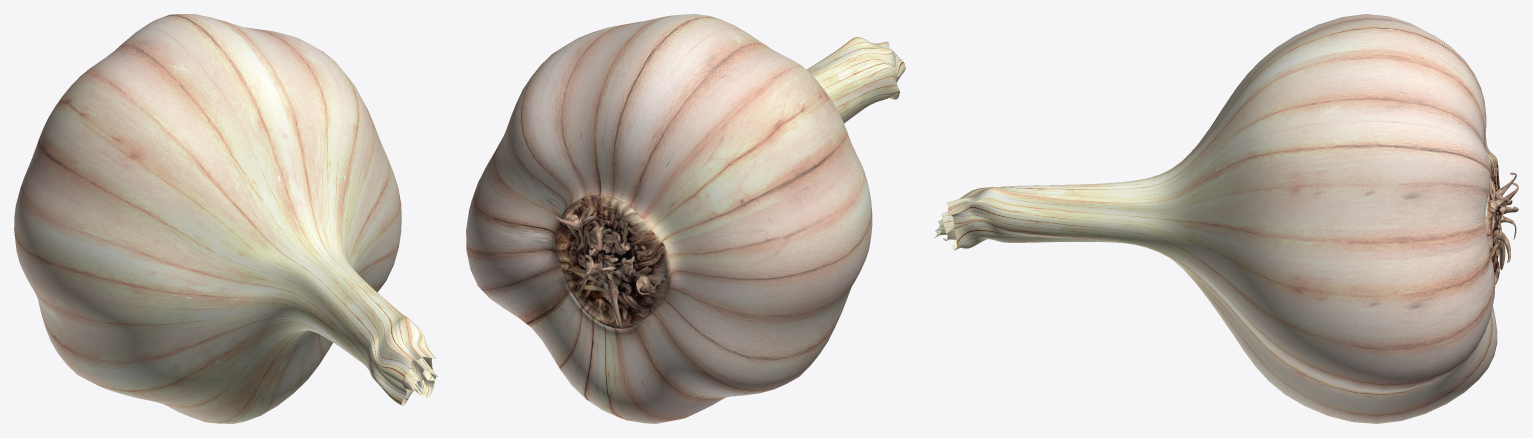
File: Garlic.obj
3 views of the same model, side by side, from view 1: azimuth 30°, elevation 25°; view 2: azimuth 150°, elevation 25°; view 3: azimuth 270°, elevation 25° (orthographic).
Parts seen in each view (by area): view 1: Garlic_04; view 2: Garlic_04; view 3: Garlic_04.
Boxes of the visible parts, x1,y1,x2,y2 form: Garlic_04: (14,14,437,423); Garlic_04: (466,14,905,423); Garlic_04: (934,14,1518,423).
Size of the model in its own units: 59.09 by 61.1 by 85.14.
